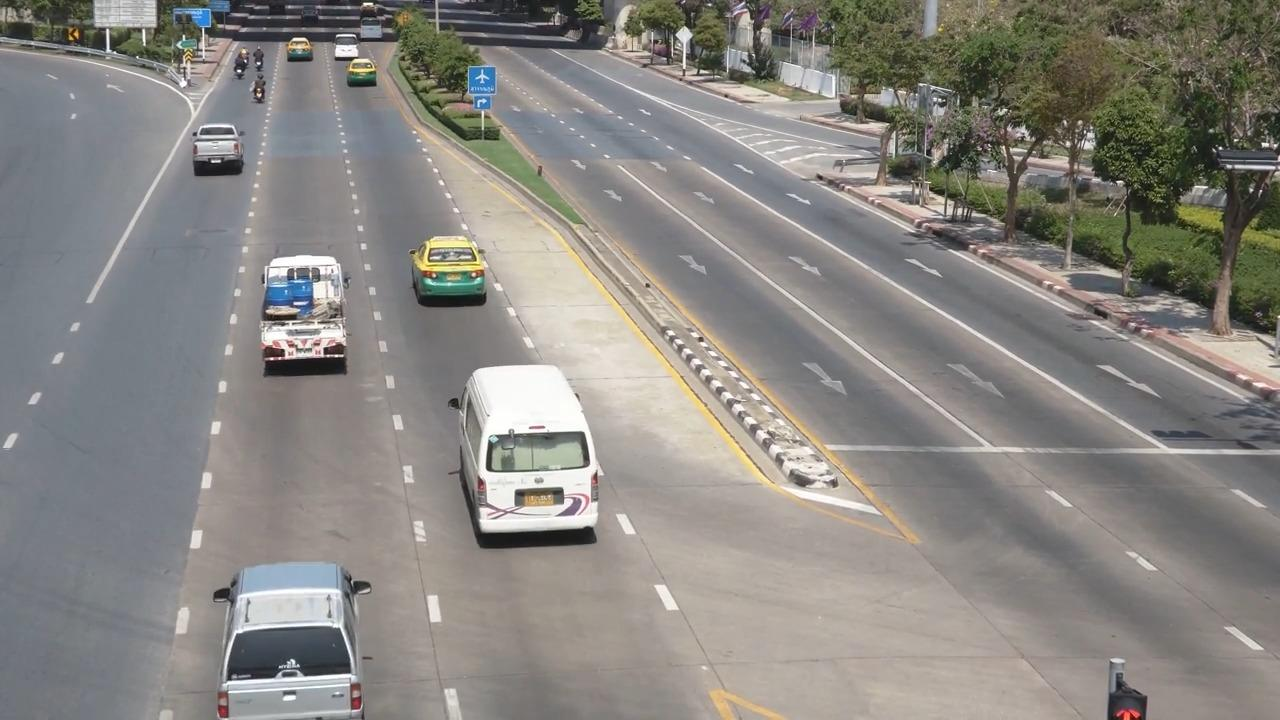CAR: (439, 355, 628, 560), (245, 243, 374, 399), (402, 221, 505, 331), (179, 111, 260, 193), (341, 54, 390, 100), (323, 30, 373, 75), (272, 33, 321, 78), (353, 12, 394, 52)
MOTOR: (237, 82, 280, 131), (241, 49, 279, 96), (219, 50, 254, 97)
